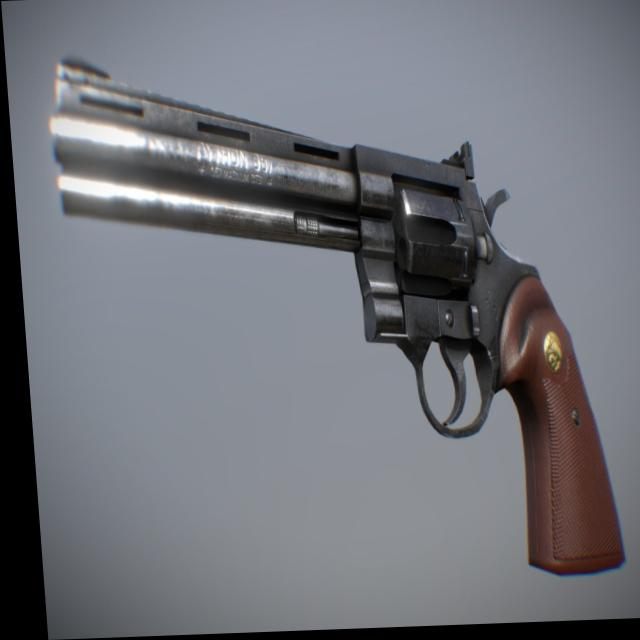handgun: (39, 41, 623, 598)
